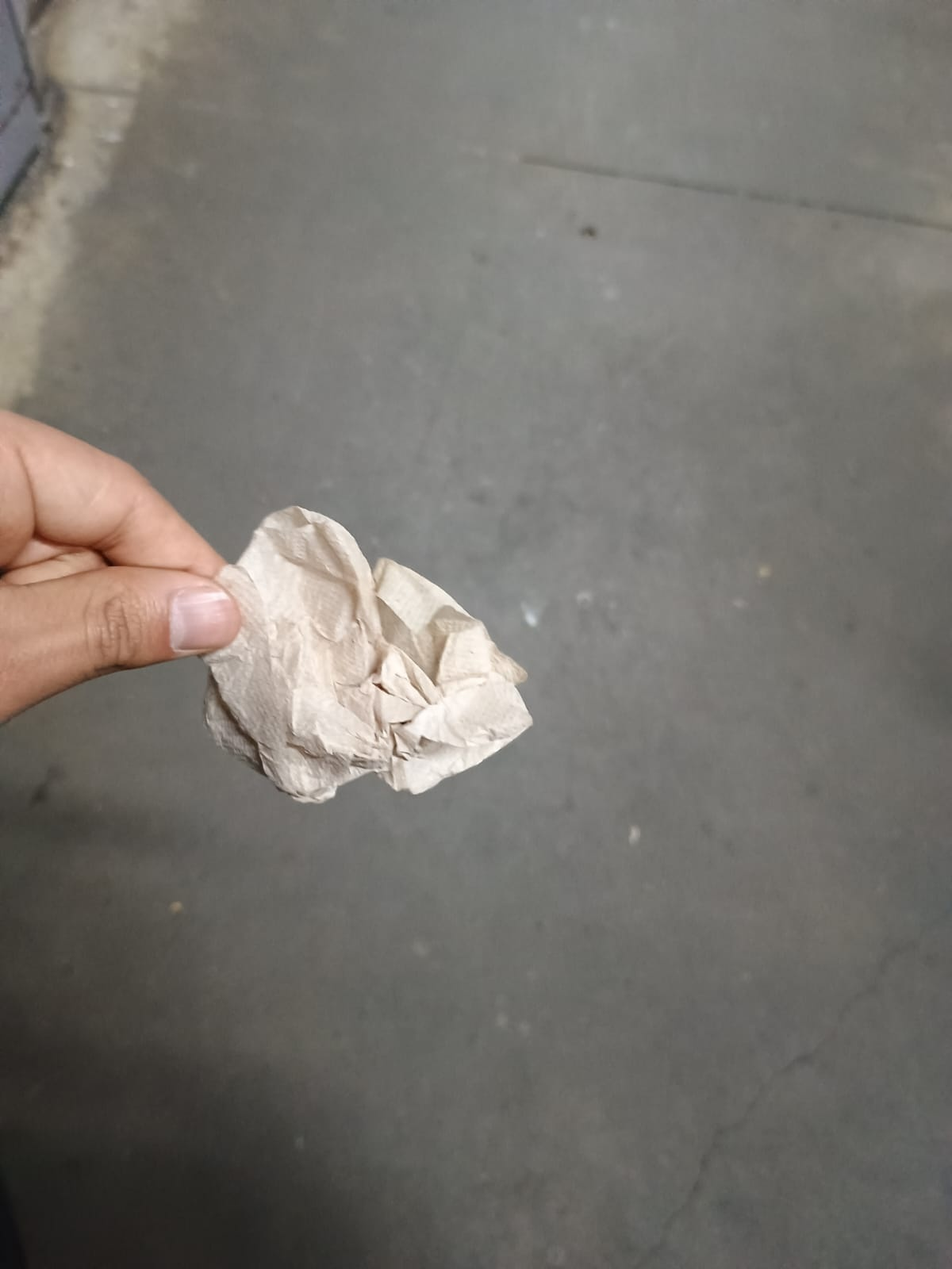Ordinario: (195, 503, 535, 805)
